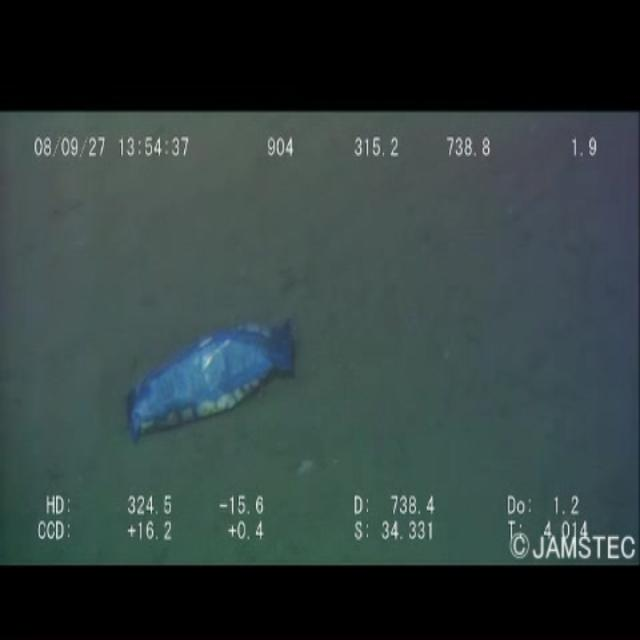Litter: (120, 310, 305, 442)
